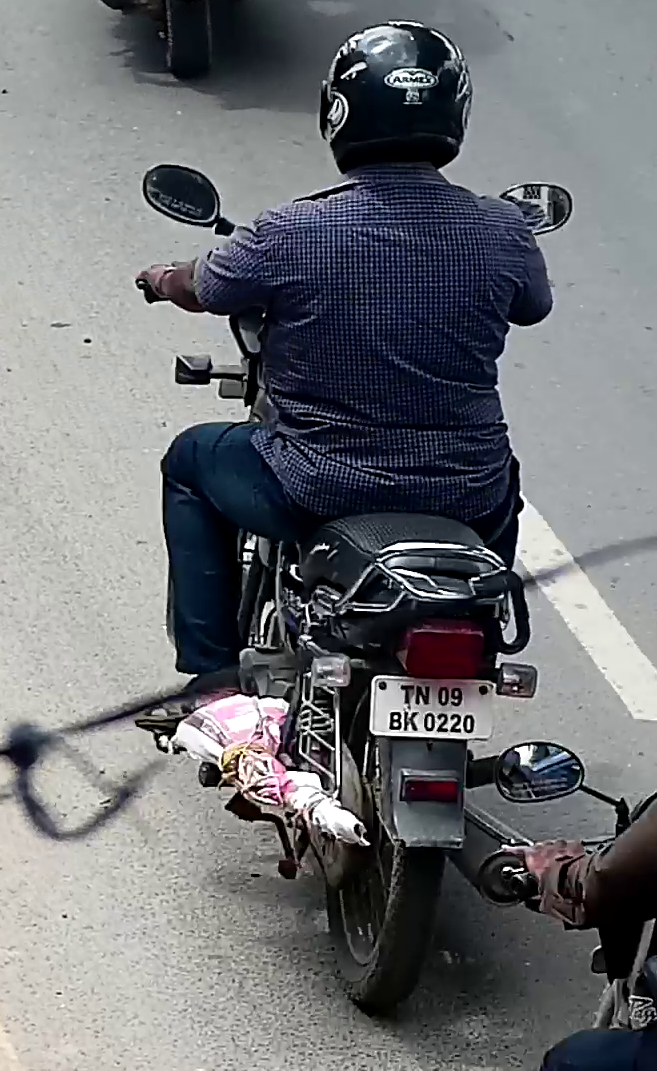0: (437, 686, 449, 706), (423, 712, 435, 732), (463, 714, 475, 733)
2: (435, 713, 449, 733), (449, 713, 462, 733)
9: (449, 687, 463, 707)
B: (388, 711, 402, 730)
K: (403, 710, 419, 732)
N: (415, 684, 430, 705)
P16: (369, 675, 497, 743)
T: (400, 685, 415, 704)
